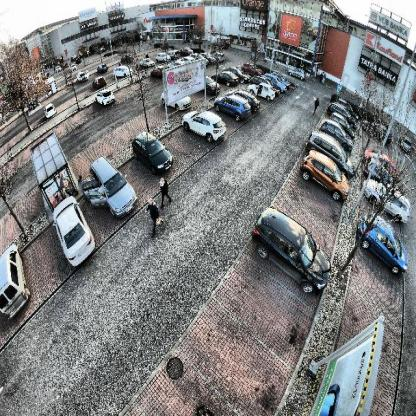free: (235, 267, 304, 339), (191, 325, 259, 385), (358, 264, 400, 310), (25, 239, 59, 289), (128, 163, 156, 199), (168, 131, 200, 161), (219, 107, 234, 126)
occupied: (253, 208, 330, 287), (88, 158, 132, 221), (53, 206, 96, 270), (359, 213, 409, 268), (0, 241, 31, 311), (300, 152, 345, 196), (136, 128, 171, 175), (184, 106, 227, 142)
